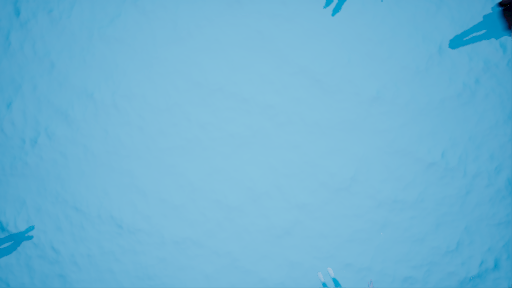person: (445, 1, 512, 48)
